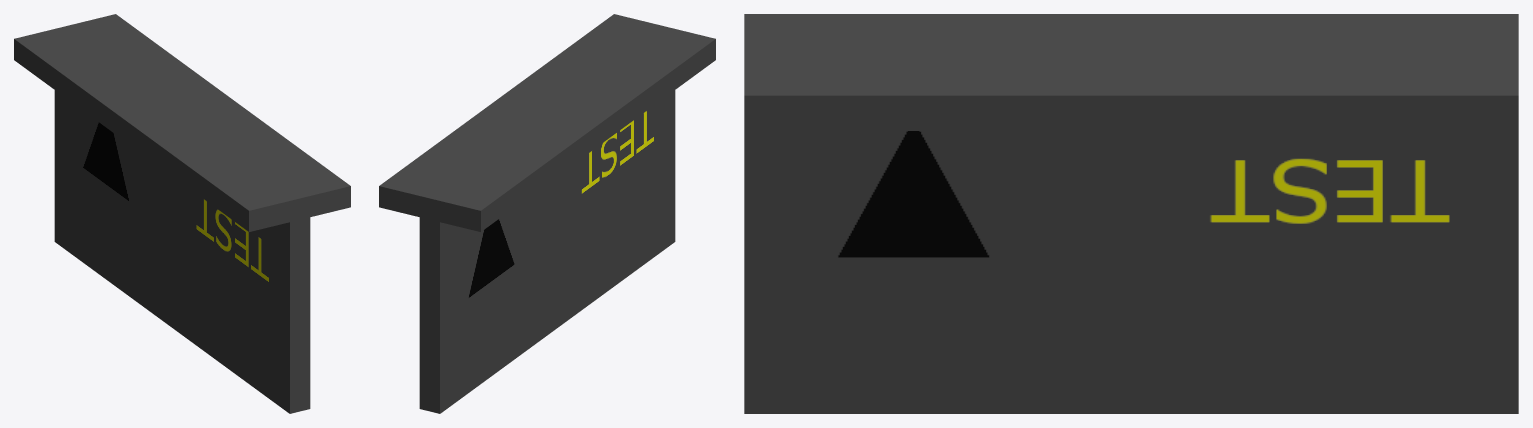
File: T_Beam.obj
The picture shows the model from 3 angles, left to right: view 1: azimuth 30°, elevation 25°; view 2: azimuth 150°, elevation 25°; view 3: azimuth 270°, elevation 25°; orthographic projection. The views are drawn at different scales.
Parts seen in each view (by area): view 1: T_Beam; view 2: T_Beam; view 3: T_Beam.
Boxes of the visible parts, box(x1,y1,x2,y2) form: T_Beam: box(14, 14, 350, 413); T_Beam: box(379, 14, 715, 413); T_Beam: box(744, 14, 1518, 413).
Size of the model in its own units: 1 by 2 by 4.
